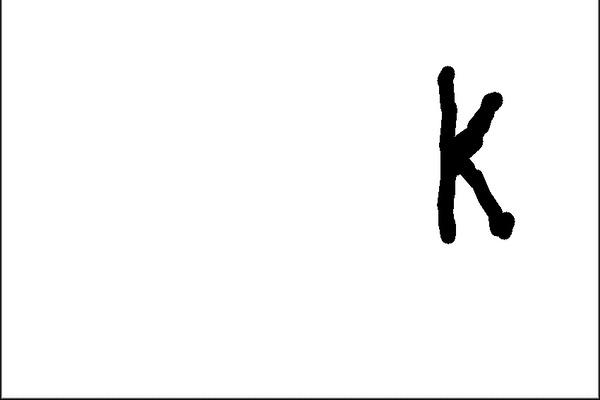K: (423, 54, 525, 250)
